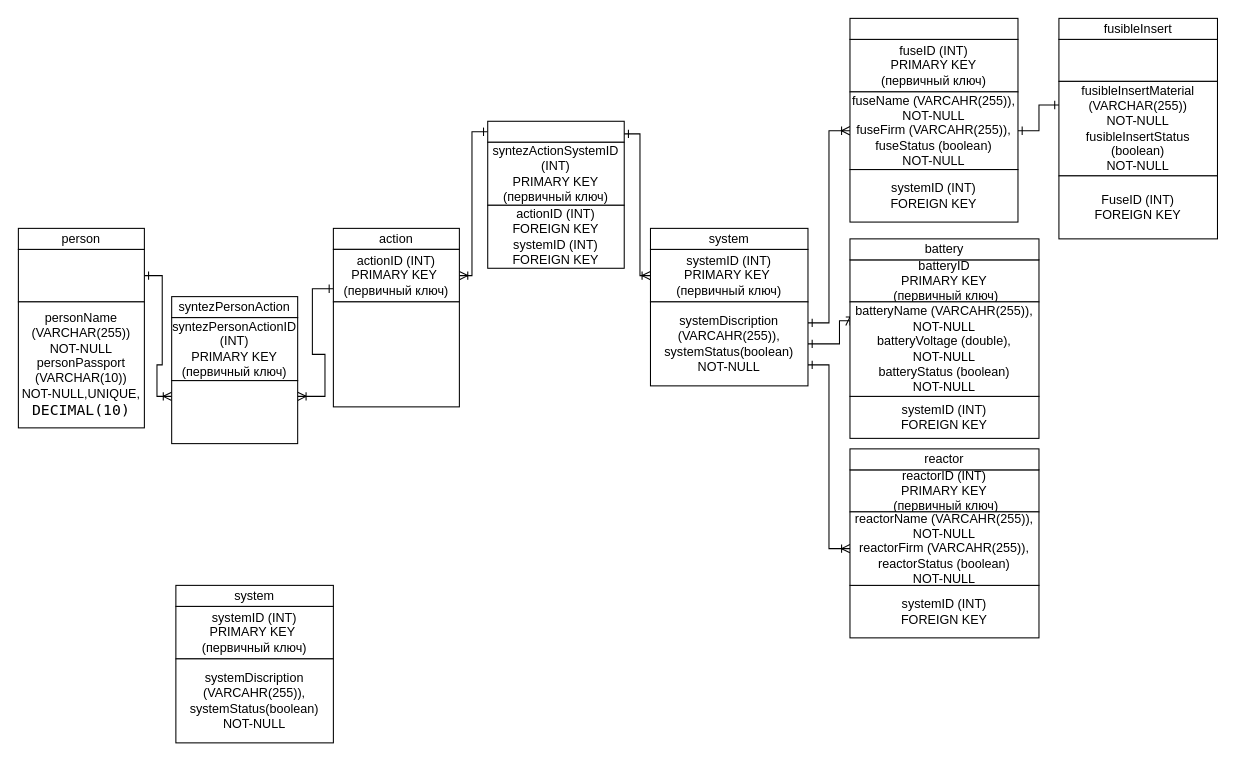
Some shapes in this 1236 by 761 pixel diagram are drawn without their labels. The box of each missing label's shape, as (x1, y1, x2, y2) in pixels:
actionDiscription TEXT, actionName (VARCHAR(255)) NOT-NULL: (332, 301, 459, 407)
actionID (INT) FOREIGN KEY personID (INT) FOREIGN KEY: (171, 380, 298, 444)
fuse: (849, 17, 1018, 39)
fusibleInsertID PRIMARY KEY (первичный ключ): (1058, 38, 1217, 81)
personID (INT) PRIMARY KEY (первичный ключ): (17, 248, 144, 302)
syntezActionSystem: (487, 120, 624, 142)
